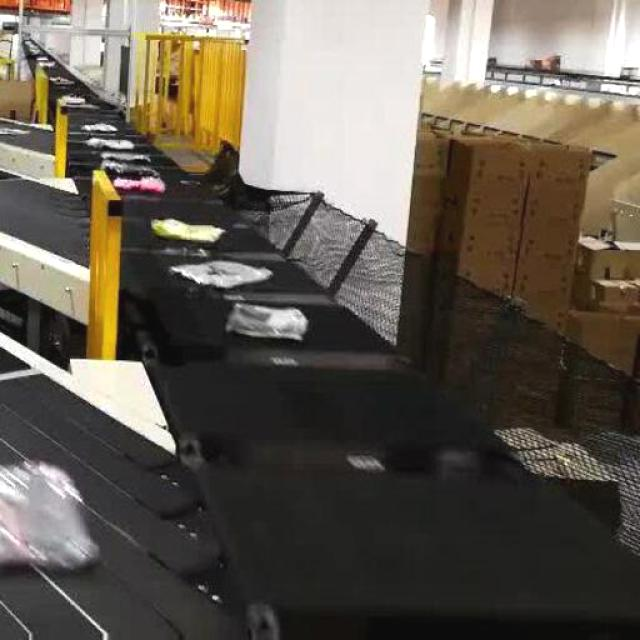conveyor: (19, 34, 640, 640)
